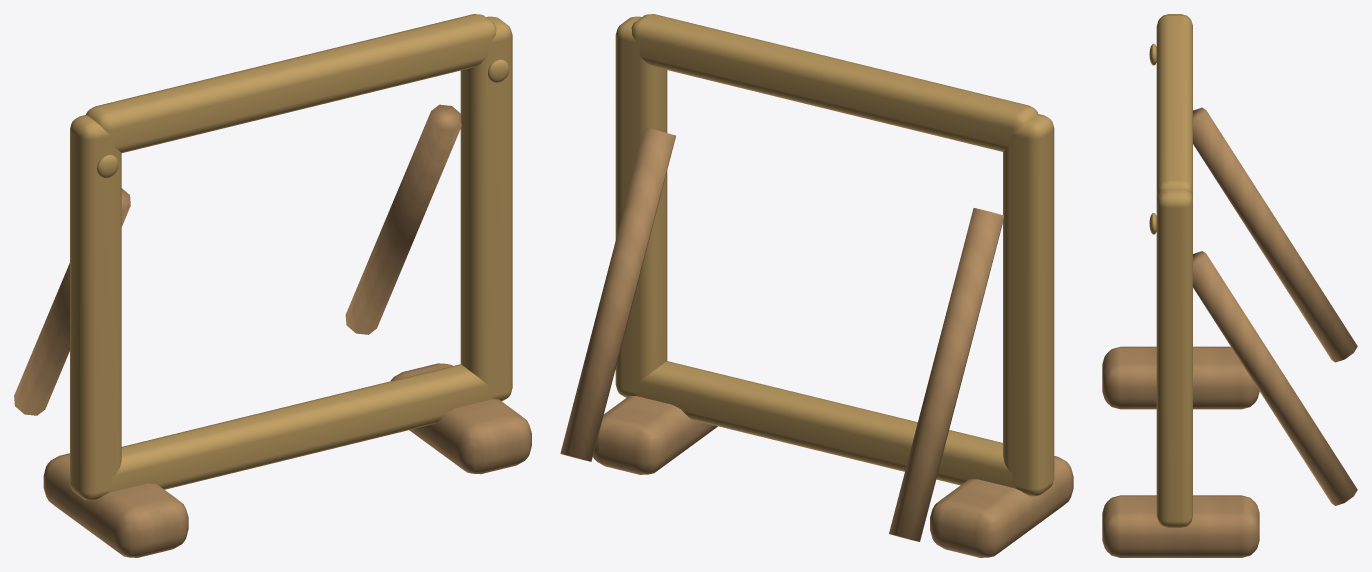
The model's file is gift-20.cd1a568dd7f5-CxWv4Vsv.glb.
3 views of the same model, side by side, from view 1: azimuth 30°, elevation 25°; view 2: azimuth 150°, elevation 25°; view 3: azimuth 270°, elevation 25° (orthographic). The views are drawn at different scales.
Parts seen in each view (by area): view 1: PART_PIVOT_frame_MAT_soft_brass, PART_GIFT_20_ROOT_MAT_walnut_wood, PART_PIVOT_frame_MAT_walnut_wood; view 2: PART_PIVOT_frame_MAT_soft_brass, PART_PIVOT_frame_MAT_walnut_wood, PART_GIFT_20_ROOT_MAT_walnut_wood; view 3: PART_PIVOT_frame_MAT_soft_brass, PART_PIVOT_frame_MAT_walnut_wood, PART_GIFT_20_ROOT_MAT_walnut_wood.
Boxes of the visible parts, x1=… form: PART_PIVOT_frame_MAT_soft_brass: x1=70, y1=14, x2=512, y2=500; PART_GIFT_20_ROOT_MAT_walnut_wood: x1=43, y1=363, x2=531, y2=557; PART_PIVOT_frame_MAT_walnut_wood: x1=14, y1=104, x2=461, y2=415; PART_PIVOT_frame_MAT_soft_brass: x1=615, y1=14, x2=1054, y2=496; PART_PIVOT_frame_MAT_walnut_wood: x1=560, y1=127, x2=1003, y2=541; PART_GIFT_20_ROOT_MAT_walnut_wood: x1=593, y1=396, x2=1073, y2=557; PART_PIVOT_frame_MAT_soft_brass: x1=1149, y1=14, x2=1192, y2=527; PART_PIVOT_frame_MAT_walnut_wood: x1=1193, y1=107, x2=1357, y2=505; PART_GIFT_20_ROOT_MAT_walnut_wood: x1=1102, y1=346, x2=1259, y2=557.
Bounding box in the file's own units: 0.073 × 0.0685 × 0.0422.
2 materials, 1 textured.
